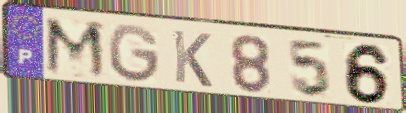5: (285, 38, 333, 99)
6: (341, 41, 395, 106)
8: (229, 33, 273, 95)
G: (106, 22, 162, 85)
K: (170, 27, 215, 90)
M: (43, 15, 110, 83)
